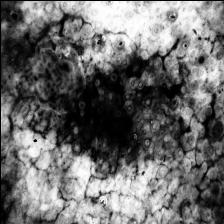Potentially Malignant Skin Tumors: (32, 23, 175, 174)
